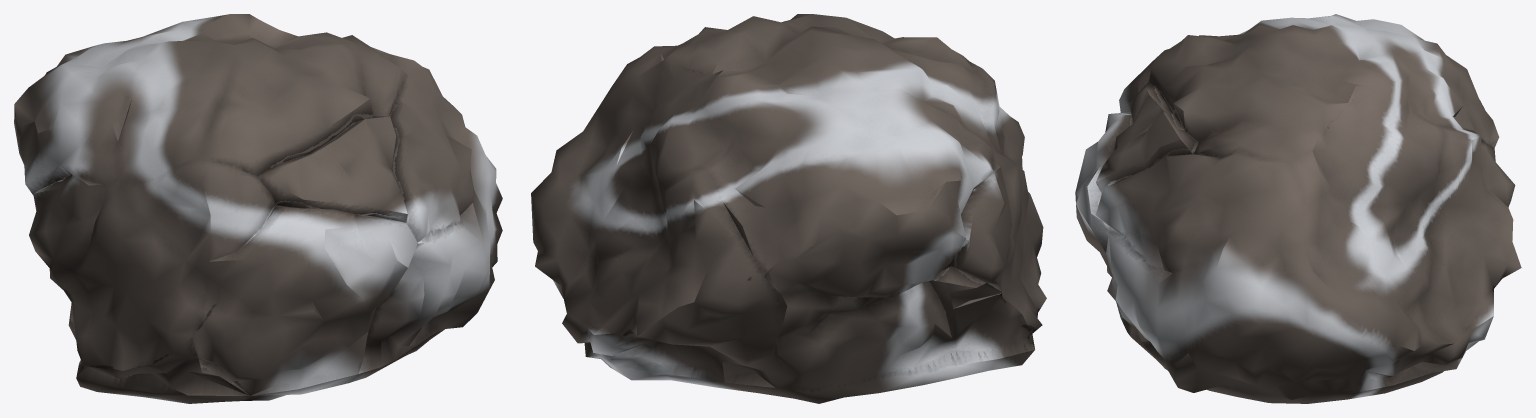
Rendered from mineral_hierro.fbx.
3 renders of one model, left to right at view 1: azimuth 30°, elevation 25°; view 2: azimuth 150°, elevation 25°; view 3: azimuth 270°, elevation 25°, orthographic. The views are drawn at different scales.
Visible parts, largest first — view 1: mineral_hierro; view 2: mineral_hierro; view 3: mineral_hierro.
Boxes of the visible parts, left/top/right/bottom form: mineral_hierro: left=14, top=14, right=502, bottom=403; mineral_hierro: left=531, top=14, right=1046, bottom=403; mineral_hierro: left=1075, top=14, right=1521, bottom=403.
Bounding box in the file's own units: 2.48 × 1.6 × 2.32.
Materials: 1 (1 with a texture image).
